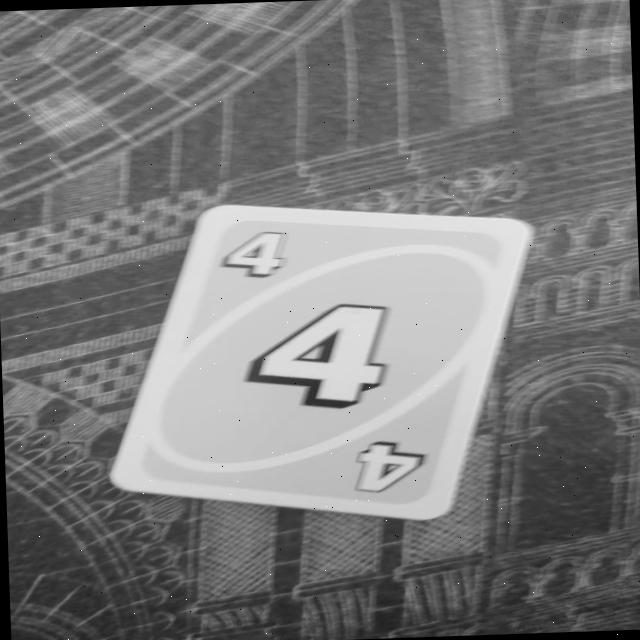card_4: (97, 192, 543, 530)
